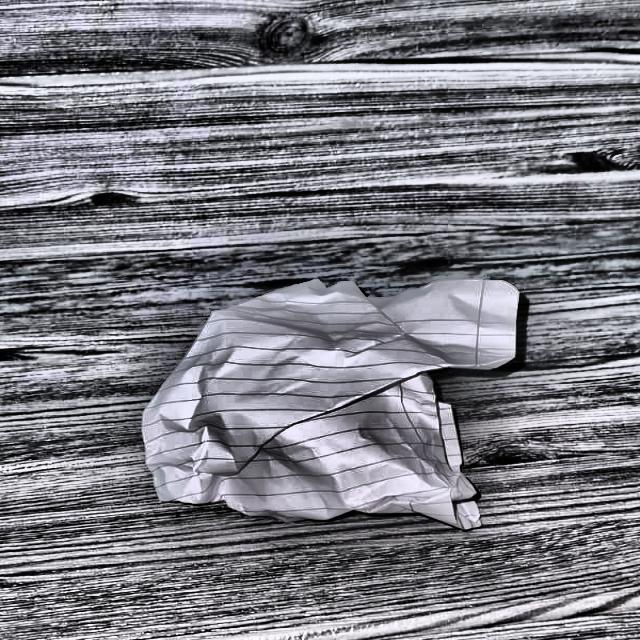paper: (136, 270, 538, 515)
